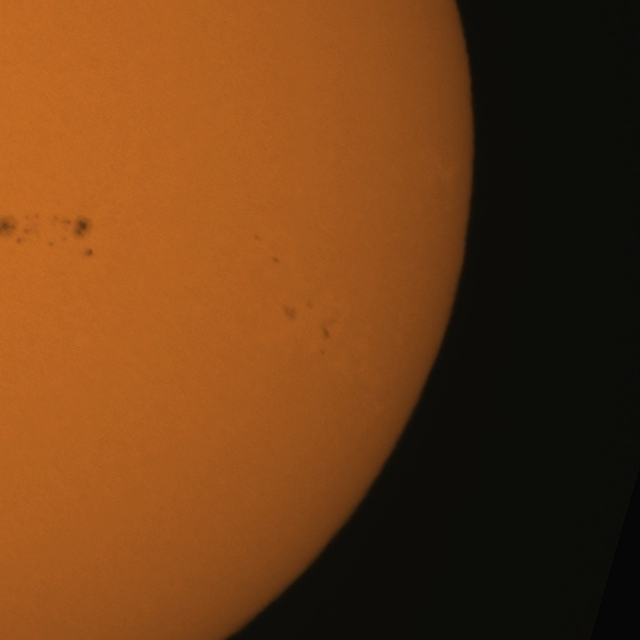sunspot: (45, 217, 90, 253), (1, 212, 39, 246), (282, 302, 298, 323), (81, 247, 95, 260), (270, 255, 281, 266)
